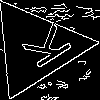K: (12, 22, 75, 76)
